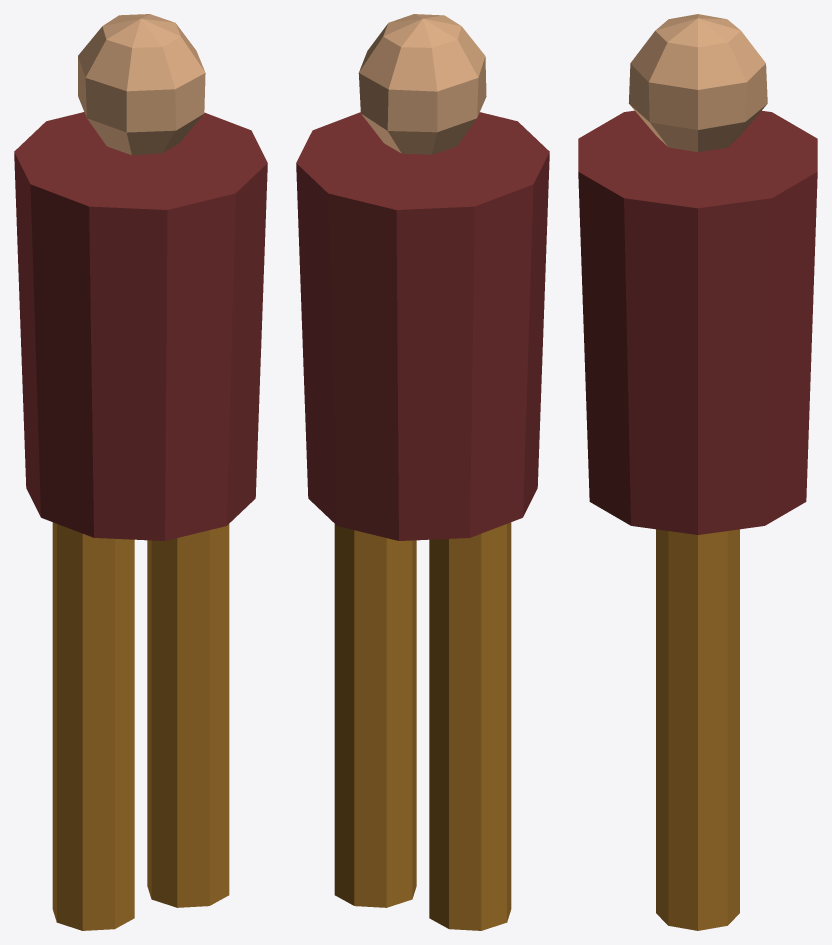
The model's file is Person1.glb.
3 views of the same model, side by side, from view 1: azimuth 30°, elevation 25°; view 2: azimuth 150°, elevation 25°; view 3: azimuth 270°, elevation 25° (orthographic).
Parts seen in each view (by area): view 1: Person1; view 2: Person1; view 3: Person1.
Part boxes in pixels (left/top/right/bottom): Person1: left=14, top=14, right=267, bottom=930; Person1: left=296, top=14, right=549, bottom=930; Person1: left=578, top=14, right=817, bottom=930.
Size of the model in its own units: 0.42 by 1.61 by 0.3994.
